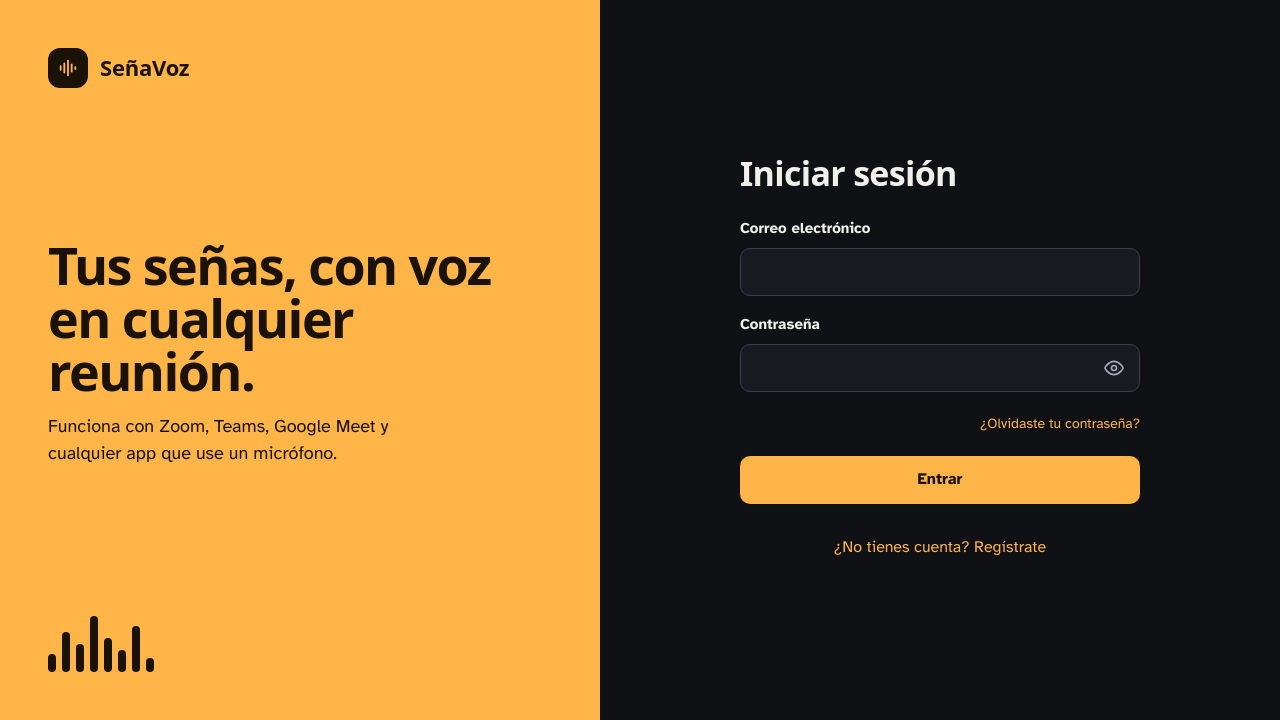
pantalla de login › rechaza un correo con formato inválido
Step 1. Type "no-es-correo" into the field labelled "Correo electrónico" → point(940, 272), box [740,248,1140,296]
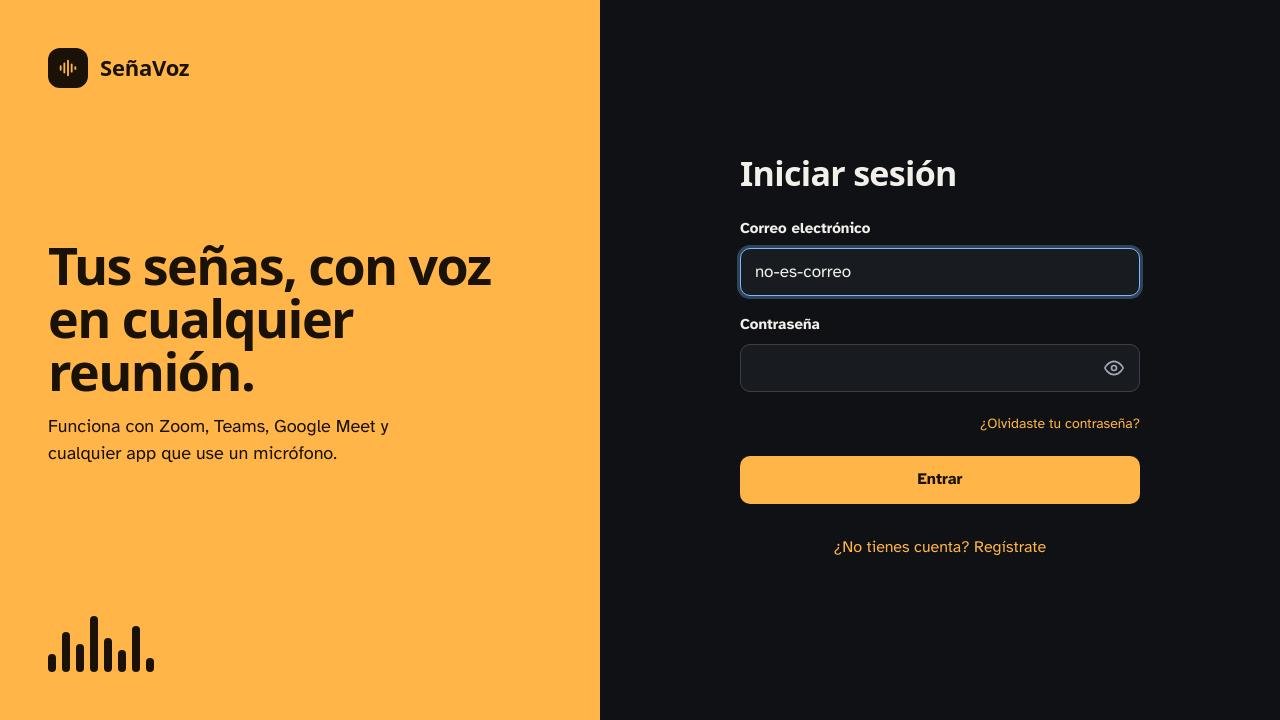
Step 2. Type "clave1234" into the password field labelled "Contraseña" → point(940, 368), box [740,344,1140,392]
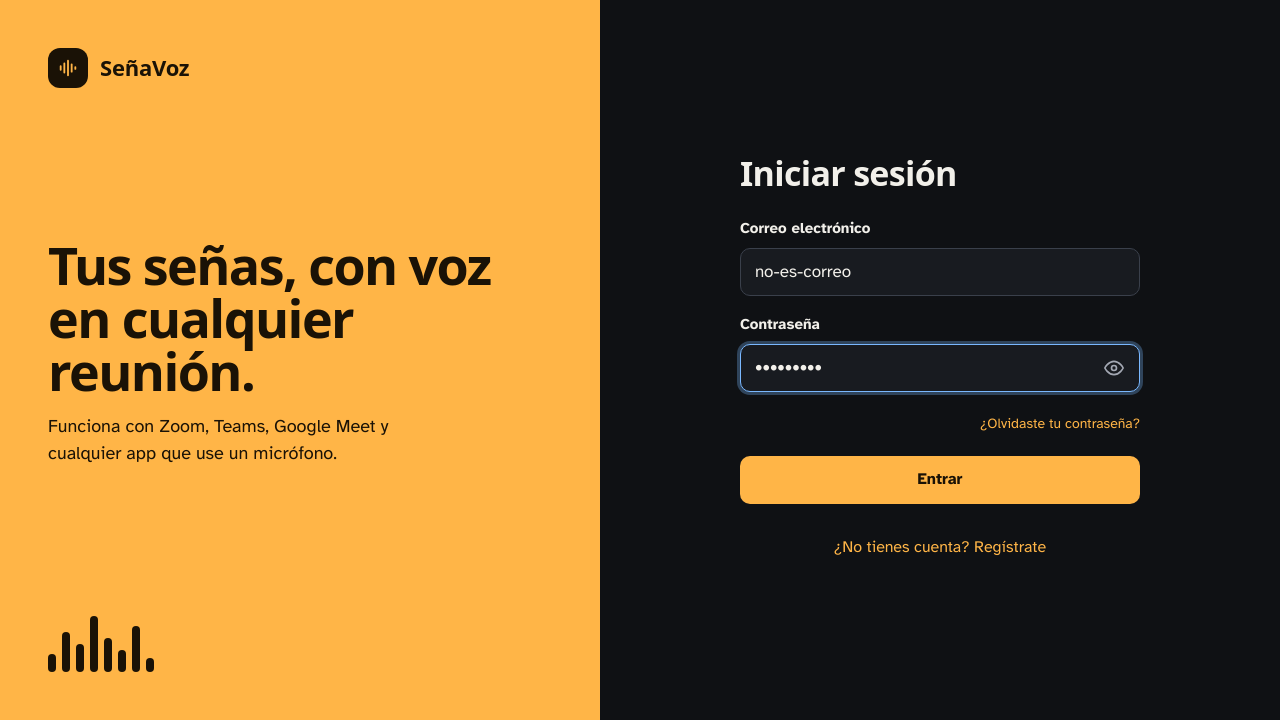
Step 3. Click the button "Entrar" → point(940, 480), box [740,456,1140,504]
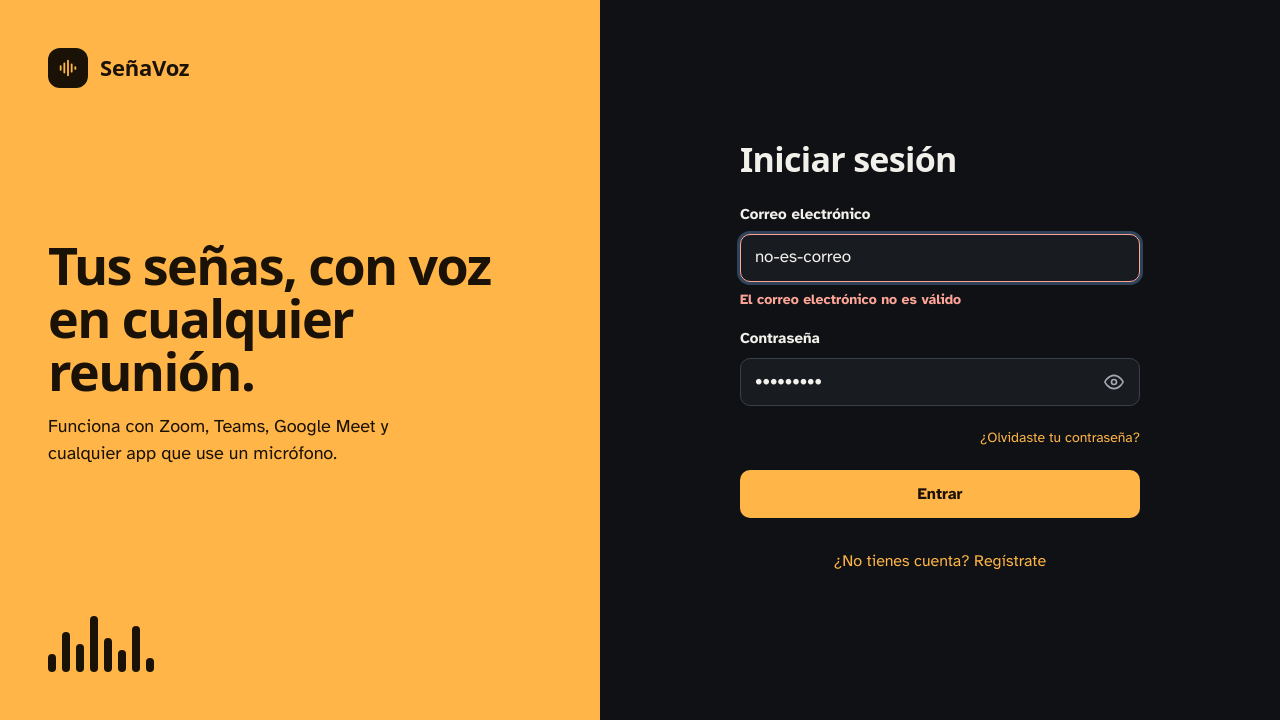
Check: the text "El correo electrónico no es válido" is shown, box [740,291,961,308]
